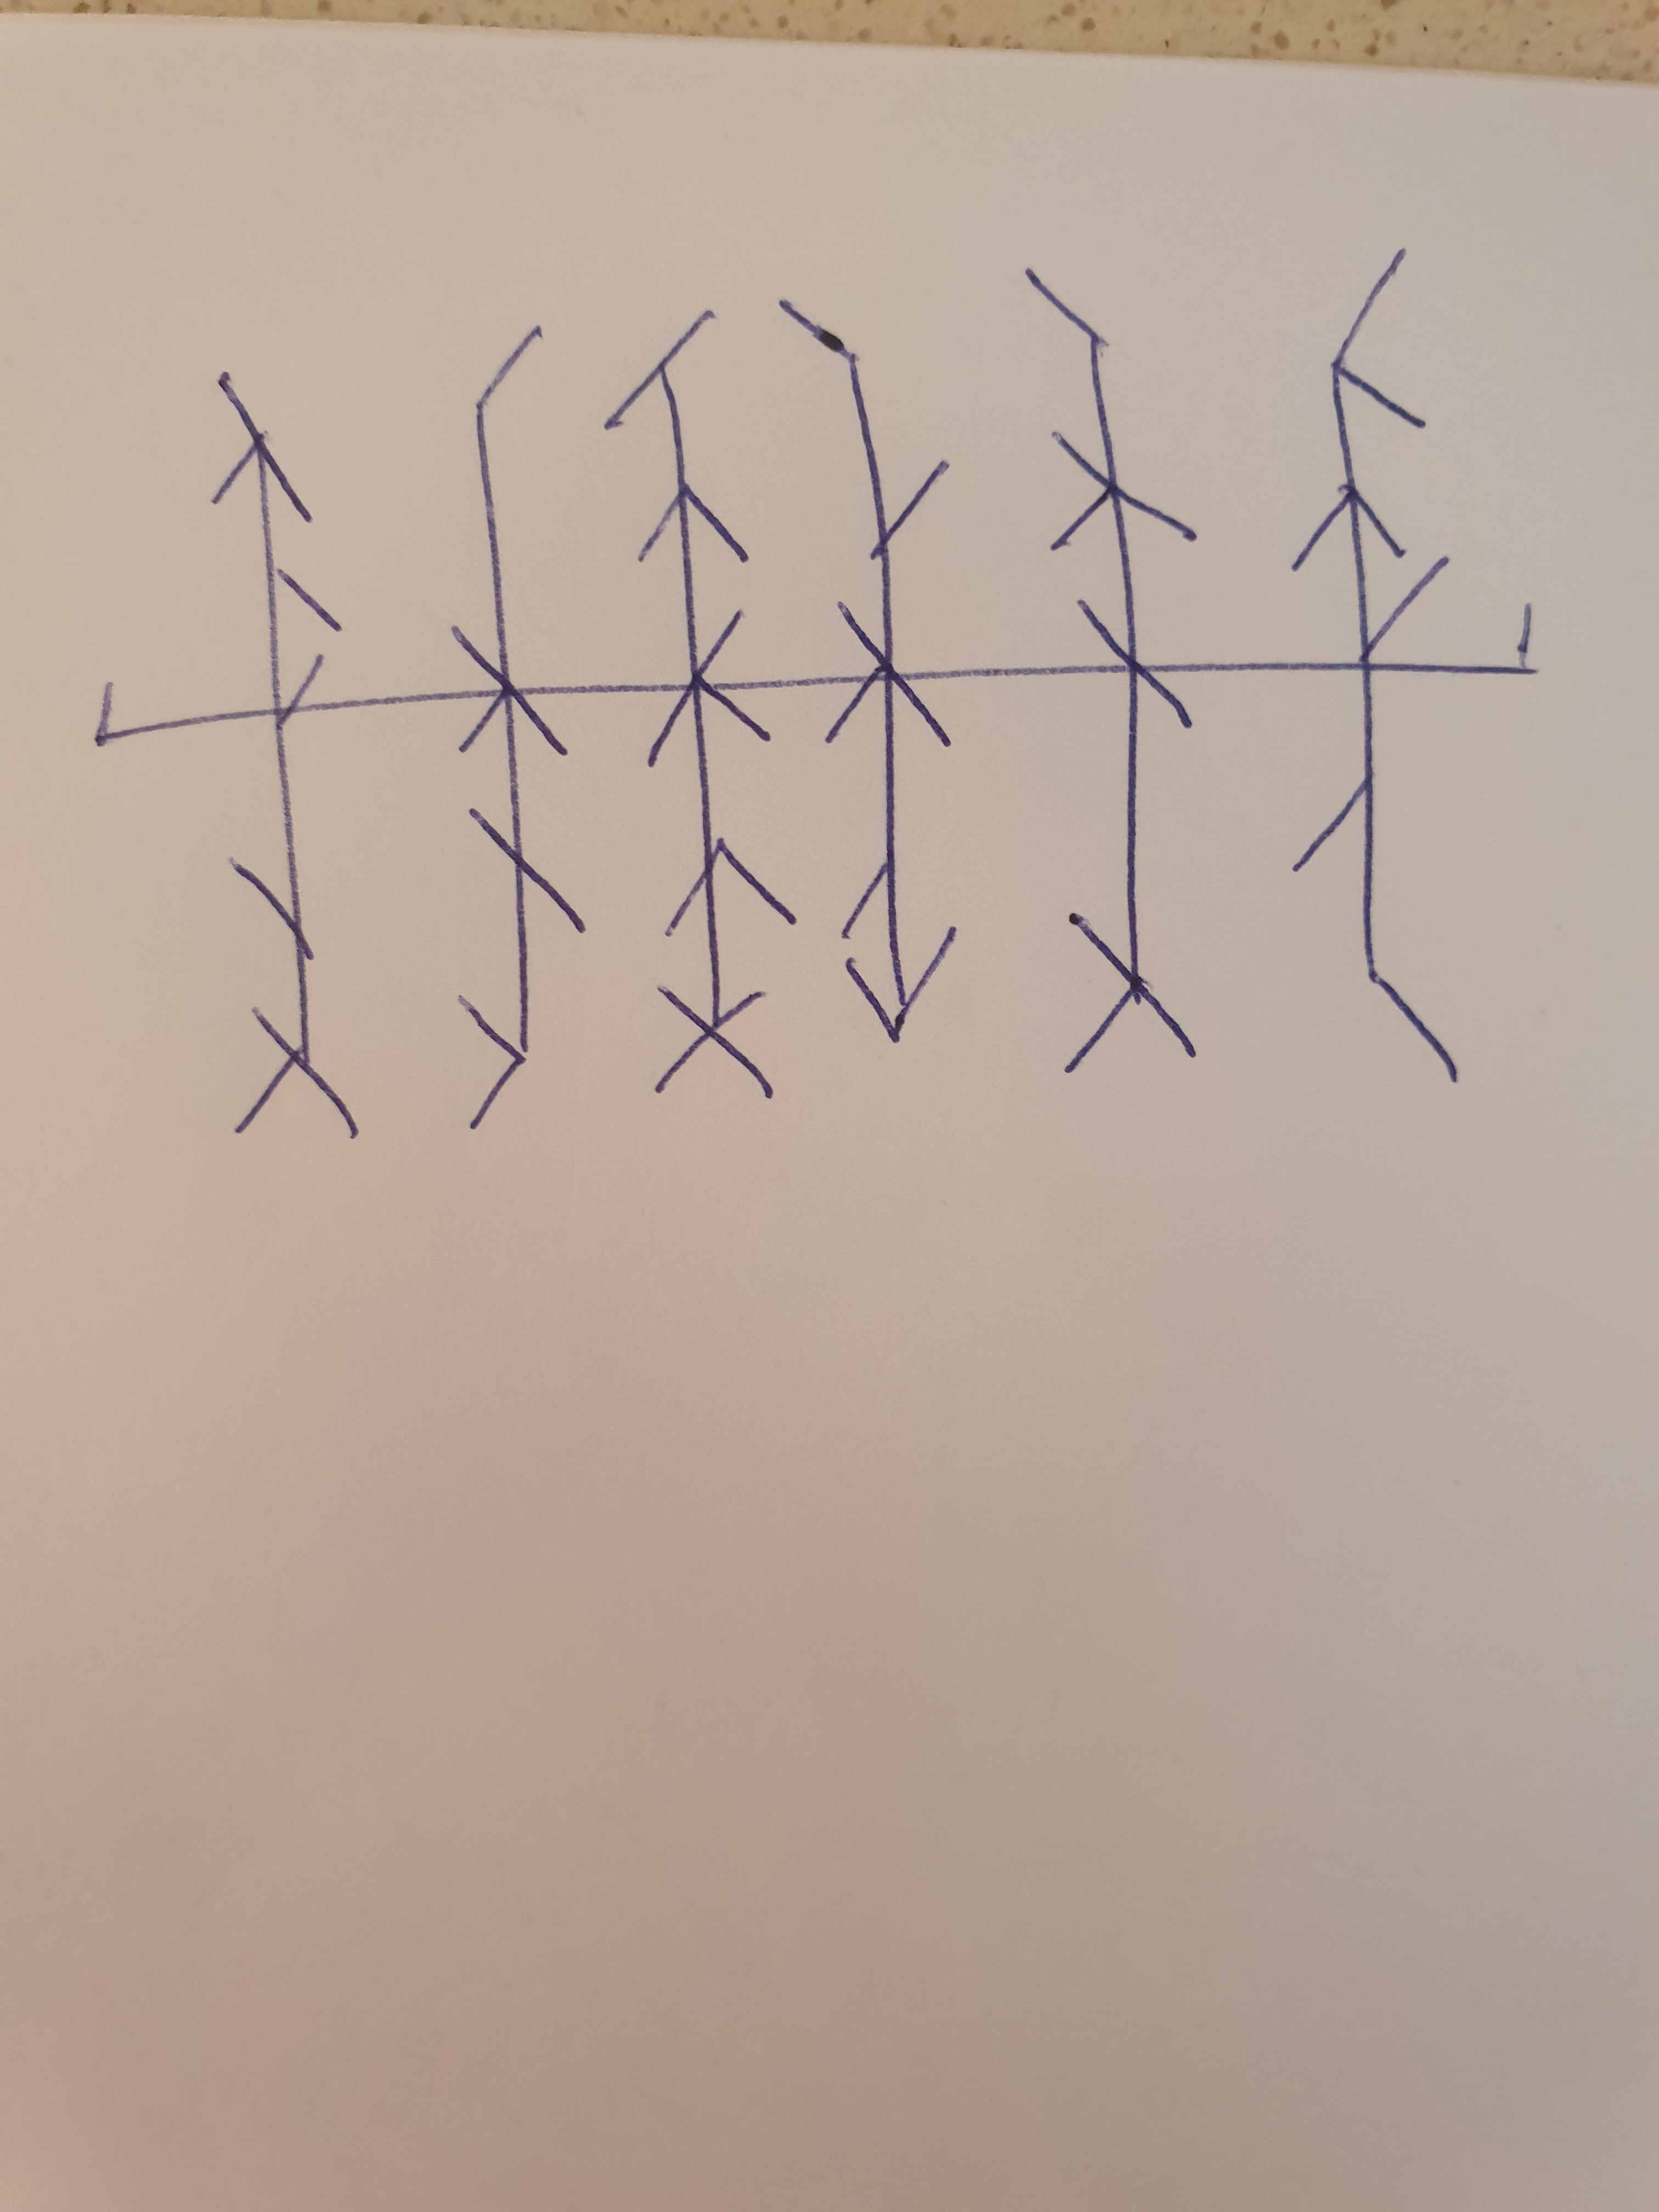Bar: (606, 314, 800, 1101), (1288, 247, 1459, 1082), (1023, 272, 1199, 1071), (775, 298, 957, 1043), (213, 371, 362, 1139), (450, 322, 586, 1129)
Barcode: (98, 246, 1537, 1139)
End: (1408, 604, 1537, 676)
Start: (96, 678, 268, 747)
